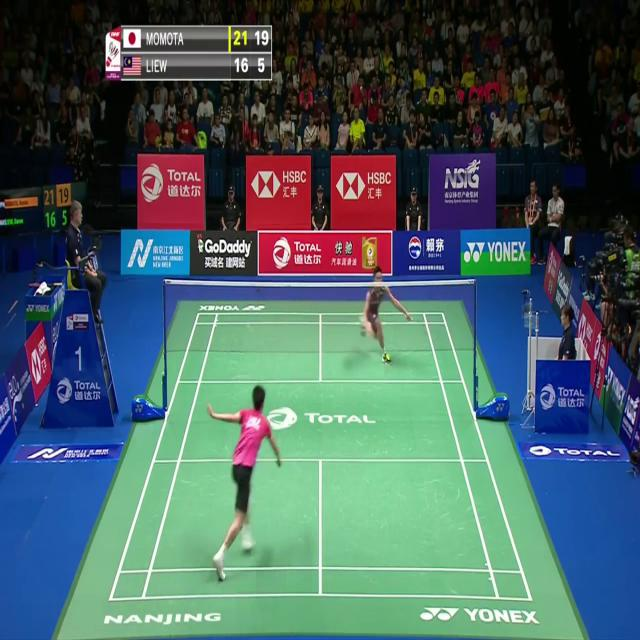Shuttlecock: (414, 246, 420, 257)
